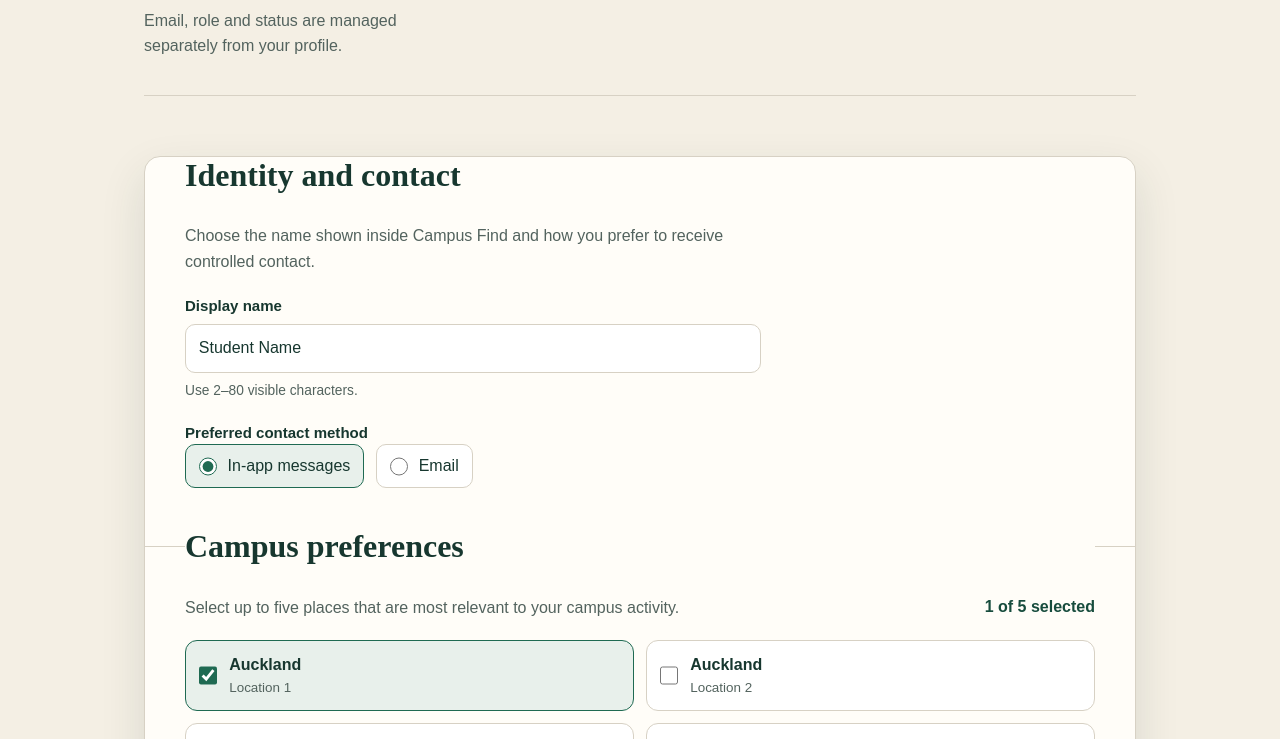
Scenario: ProfileSettingsClient form › focuses the first invalid field and preserves input after a field error
(page scrolled)
Replace the text in the field labelled "Display name" with "x" at x=473, y=348, box 185,324 -> 761,373
(page scrolled)
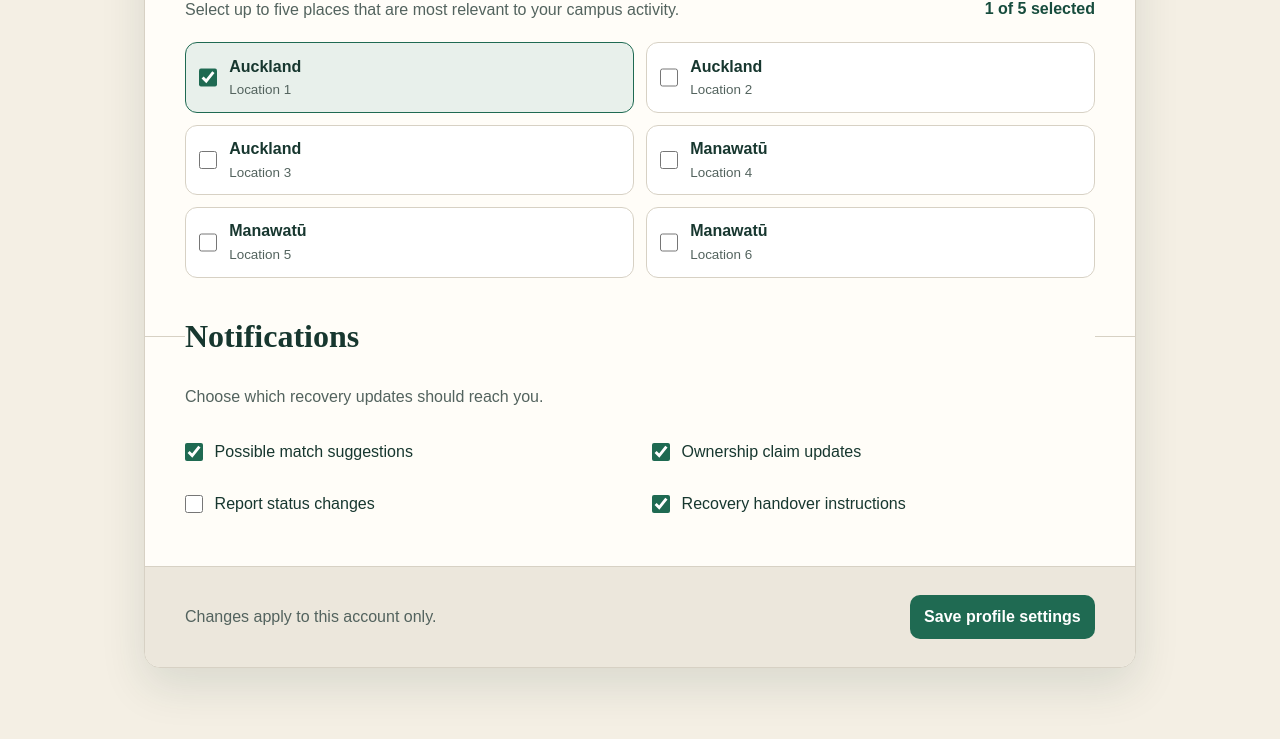
Click the button "Save profile settings" at x=1002, y=617, box 910,595 -> 1095,640
(page scrolled)
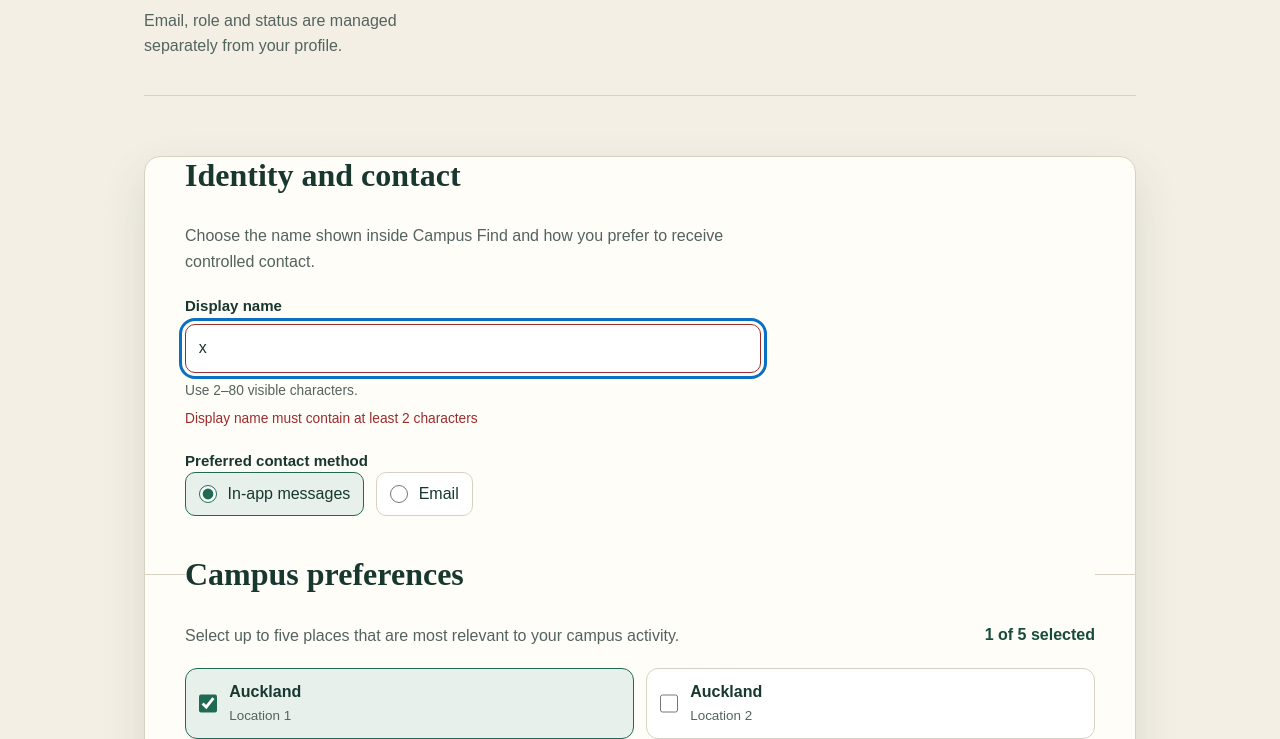
Replace the text in the field labelled "Display name" with "Unsaved Student" at x=473, y=348, box 185,324 -> 761,373
(page scrolled)
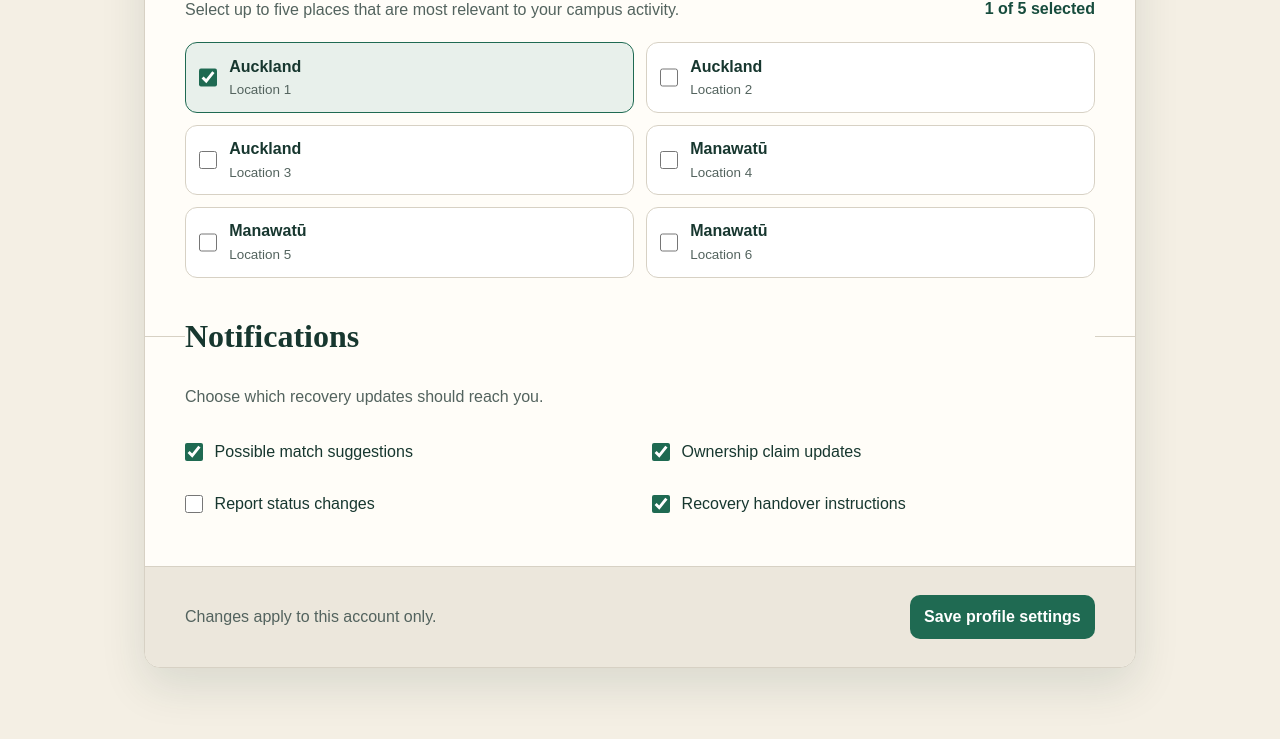
Click the button "Save profile settings" at x=1002, y=617, box 910,595 -> 1095,640
(page scrolled)
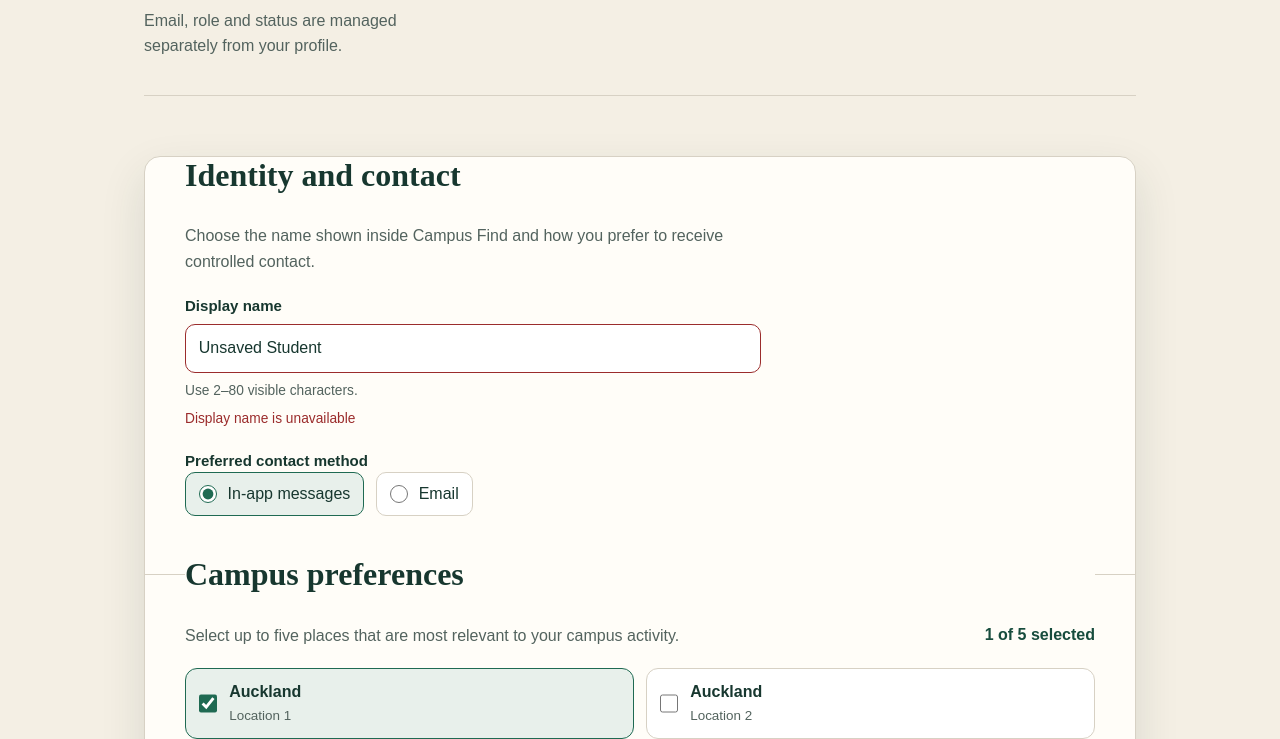
Expected: the text "Display name is unavailable" is shown, 185,411 -> 356,426
